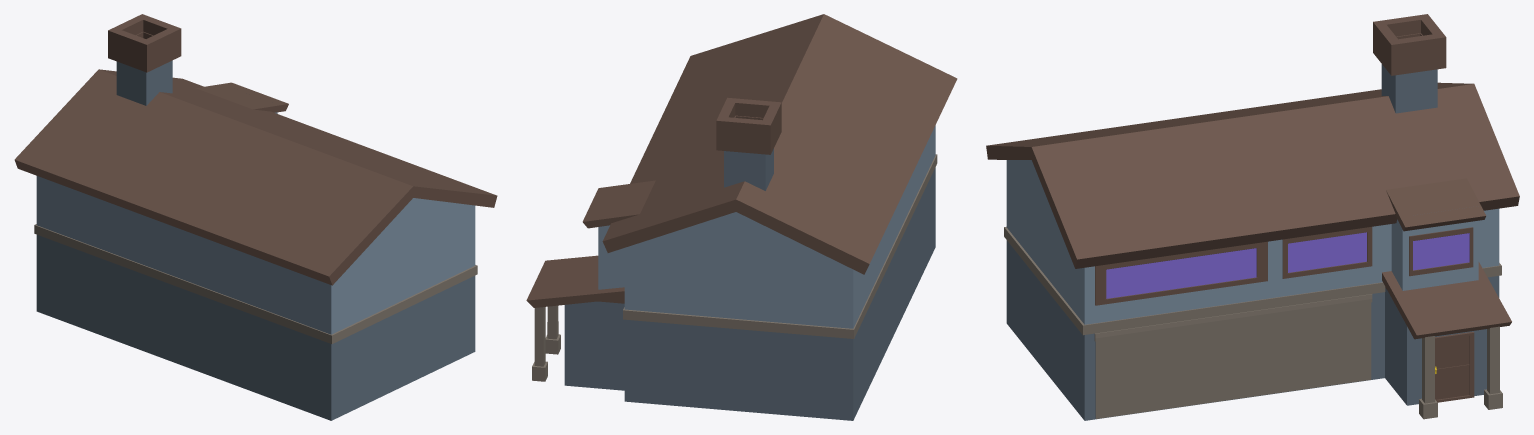
File: CALLE8_CASA2_034.fbx
The picture shows the model from 3 angles, left to right: view 1: azimuth 30°, elevation 25°; view 2: azimuth 150°, elevation 25°; view 3: azimuth 270°, elevation 25°; orthographic projection. The views are drawn at different scales.
Visible parts, largest first — view 1: CASA2.034; view 2: CASA2.034; view 3: CASA2.034.
Part boxes in pixels (x1,y1,x2,y2): CASA2.034: (14, 14, 497, 420); CASA2.034: (526, 14, 957, 420); CASA2.034: (986, 14, 1519, 420).
Bounding box in the file's own units: 889 × 680 × 1132.
